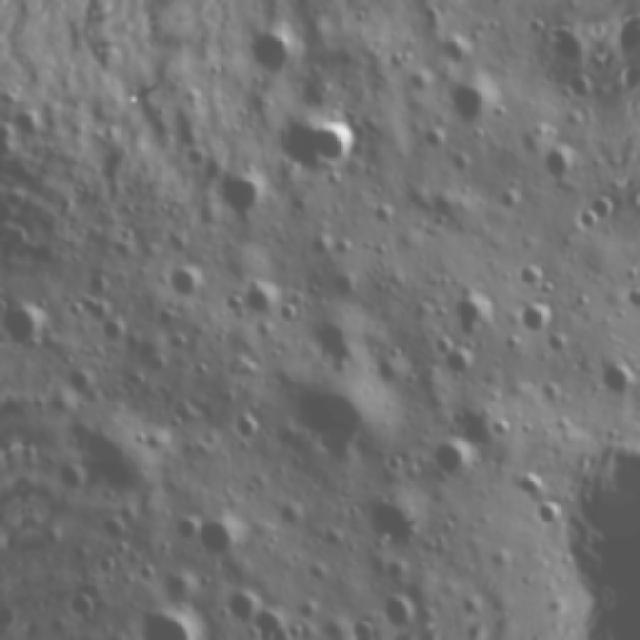crater: (527, 427, 640, 607), (51, 395, 188, 513), (271, 362, 409, 476), (276, 104, 366, 185), (237, 12, 312, 82), (438, 65, 507, 132), (210, 164, 276, 231), (361, 488, 428, 554), (302, 308, 373, 370), (123, 597, 217, 640), (230, 270, 296, 324), (441, 281, 501, 339), (196, 509, 255, 566), (0, 293, 55, 353), (530, 134, 584, 195), (540, 17, 598, 72), (572, 185, 630, 238), (424, 429, 484, 480), (122, 330, 180, 379), (156, 258, 212, 308), (511, 295, 566, 339), (60, 578, 109, 627), (523, 490, 569, 538), (592, 356, 640, 402), (242, 601, 296, 640), (506, 258, 557, 299), (216, 582, 262, 627), (224, 405, 264, 453), (378, 589, 424, 628), (177, 138, 221, 178), (63, 358, 105, 397), (614, 281, 640, 314), (383, 620, 432, 634)
